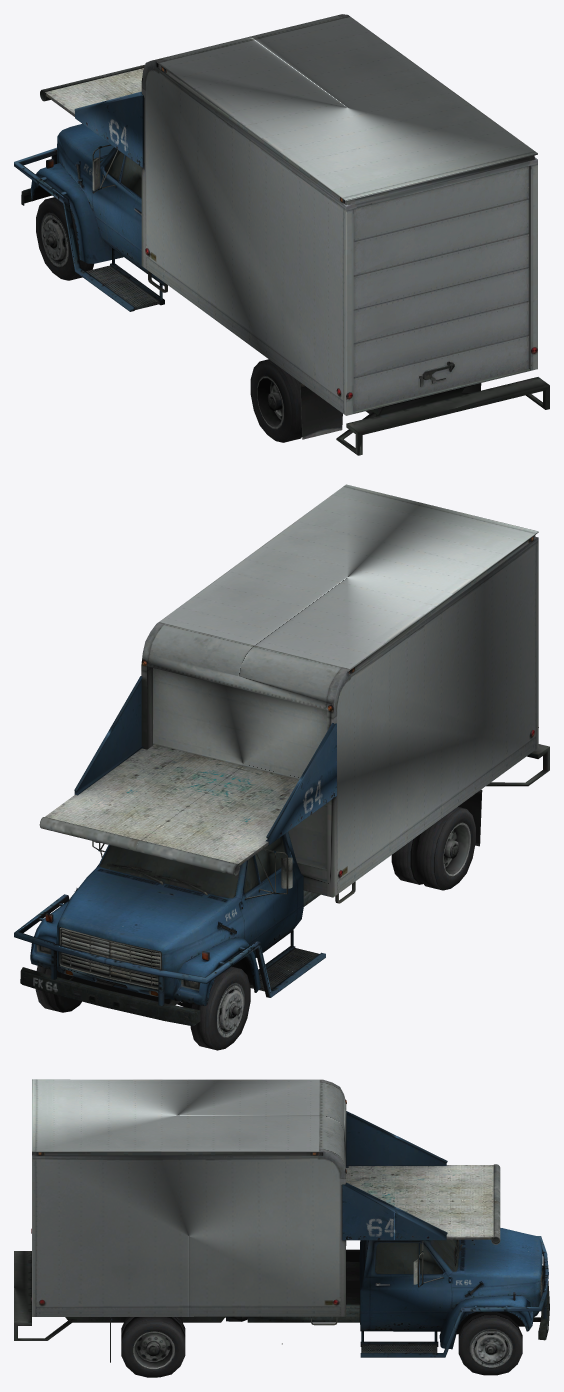
The model's file is airport_catering_truck.obj.
The picture shows the model from 3 angles, top to bottom: view 1: azimuth 30°, elevation 25°; view 2: azimuth 150°, elevation 25°; view 3: azimuth 270°, elevation 25°; orthographic projection. The views are drawn at different scales.
Parts seen in each view (by area): view 1: (null); view 2: (null); view 3: (null).
Boxes of the visible parts, x1,y1,x2,y2 form: (null): (14, 14, 549, 455); (null): (14, 484, 549, 1050); (null): (14, 1079, 549, 1377).
Bounding box in the file's own units: 120 × 172 × 366.
Materials: 1 (1 with a texture image).
